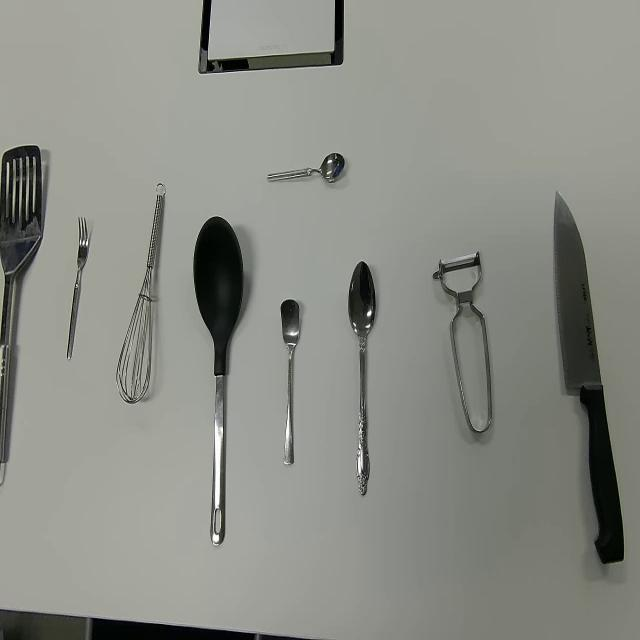Desert-Spoon: (348, 260, 377, 498)
Dinner-Fork: (66, 216, 89, 362)
Kitchen-Knife: (552, 188, 626, 566)
Peeler: (432, 249, 493, 435)
Serving-Spoon: (192, 214, 245, 546), (1, 143, 42, 486)
Tea-Spoon: (280, 296, 301, 468), (266, 151, 346, 186)
Whisk: (116, 182, 166, 404)
